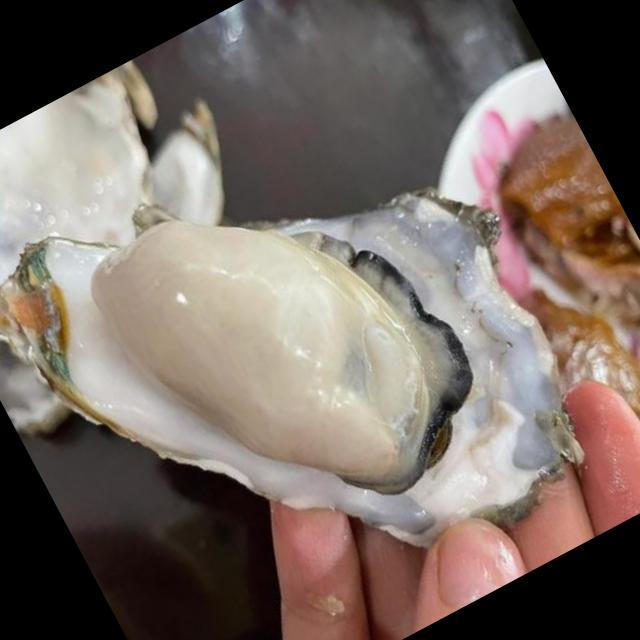Oyster-Open: (0, 31, 639, 640)
